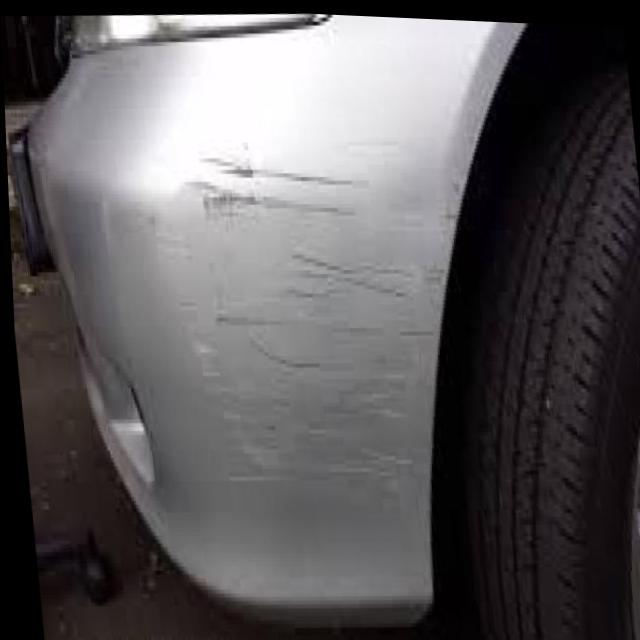Scratch: (174, 143, 478, 508)
